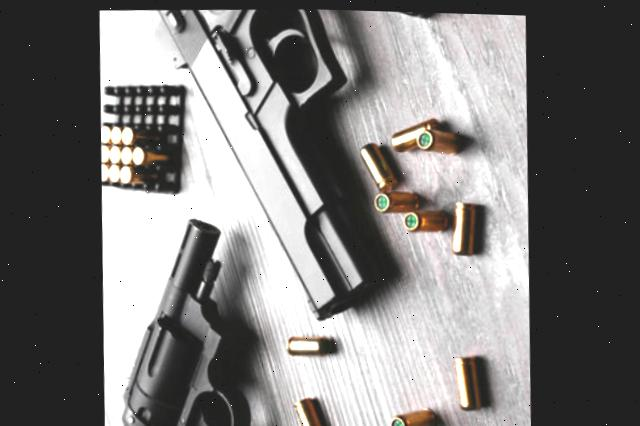pistol: (147, 4, 382, 324), (107, 216, 257, 426)
